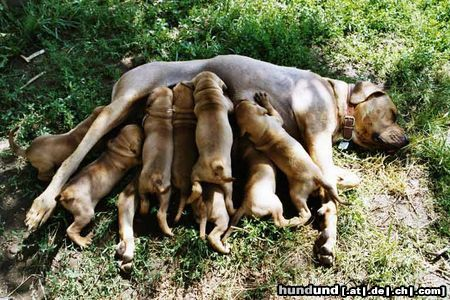tosa_inu: (23, 54, 408, 278), (231, 91, 353, 227), (56, 123, 145, 251), (220, 144, 299, 248), (6, 105, 107, 180), (185, 70, 236, 216), (138, 85, 174, 238), (171, 80, 198, 224), (193, 184, 230, 253)
